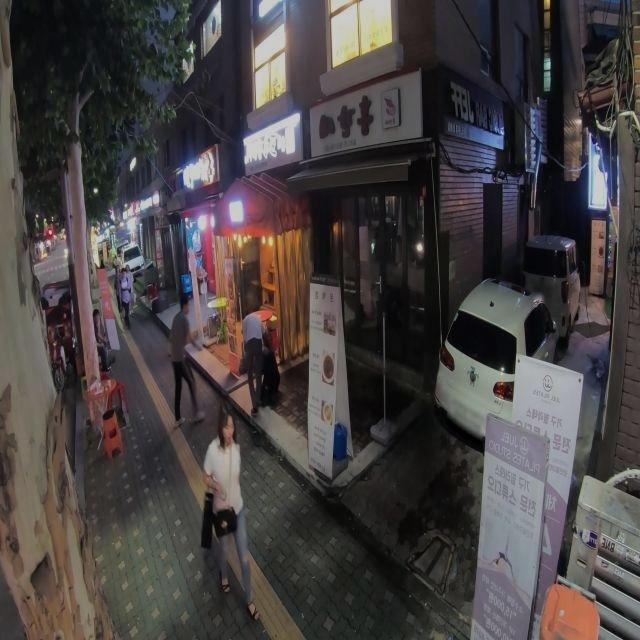fight: (240, 306, 284, 414), (169, 300, 205, 426)
non-fight: (202, 410, 258, 618)
